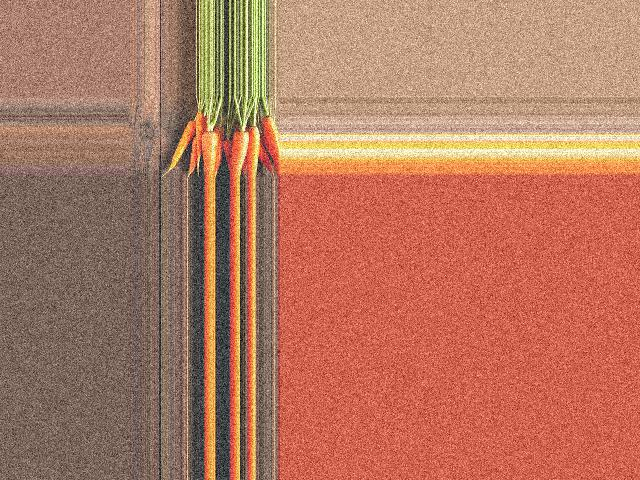carrot: (134, 113, 177, 209)
